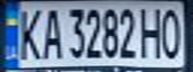2: (81, 4, 103, 60), (118, 4, 139, 60)
3: (63, 4, 87, 60)
8: (100, 4, 121, 60)
A: (36, 4, 63, 60)
H: (136, 3, 166, 60)
K: (12, 5, 45, 62)
O: (157, 3, 187, 60)
